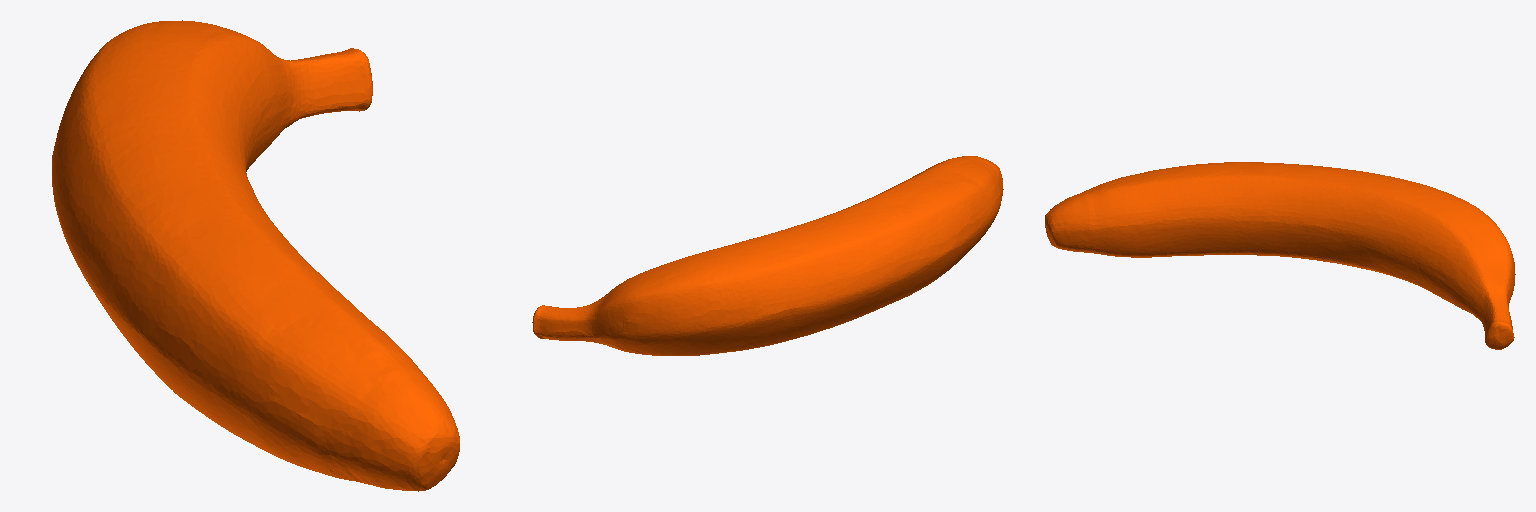
URDF robot description (011_banana):
<?xml version="1.0" ?>
<robot name="011_banana">
   <material name="obj_color">
      <color rgba="1.0 0.423529411765 0.0392156862745 1.0"/>
   </material>
   <link name="top">
      <inertial>
         <origin rpy="7.987760800959645e-05 0.0008051021758995559 0.000837310972590375" xyz="-0.005622772660592714 -0.001975180305349005 0.0005951502797636227"/>
         <mass value="0.3362037603209768"/>
         <inertia ixx="0.000734440997687272" ixy="-0.0002170082513032077" ixz="5.197729412746954e-06" iyy="0.0001518317753927304" iyz="-4.352009116025235e-06" izz="0.0008360179834195249"/>
      </inertial>
      <visual>
         <origin rpy="0 0 0" xyz="0 0 0"/>
         <geometry>
            <mesh filename="top_watertight_tiny.stl" scale="1 1 1"/>
         </geometry>
         <material name="obj_color"/>
      </visual>
      <collision>
         <origin rpy="0 0 0" xyz="0 0 0"/>
         <geometry>
            <mesh filename="top_watertight_tiny.obj" scale="1 1 1"/>
         </geometry>
      </collision>
   </link>
   <link name="bottom">
      <inertial>
         <origin rpy="1.633333333199431e-08 1.633333333199431e-08 1.633333333362855e-08" xyz="0.3464080000000008 0.3464080000000008 0.3464080000000008"/>
         <mass value="0.0009800000000000017"/>
         <inertia ixx="1.633333333253906e-08" ixy="5.447480642029219e-19" ixz="5.447480642029219e-19" iyy="1.633333333253906e-08" iyz="5.447480642029219e-19" izz="1.633333333253906e-08"/>
      </inertial>
      <visual>
         <origin rpy="0 0 0" xyz="0 0 0"/>
         <geometry>
            <mesh filename="bottom_watertight_tiny.stl" scale="1 1 1"/>
         </geometry>
         <material name="obj_color"/>
      </visual>
   </link>
   <link name="world"/>
   <joint name="world_to_base" type="fixed">
      <origin xyz="0 0 0"/>
      <axis xyz="0 0 0"/>
      <parent link="world"/>
      <child link="bottom"/>
   </joint>
   <joint name="rotation" type="revolute">
      <origin xyz="0 0 0"/>
      <axis xyz="0 0 -1"/>
      <parent link="bottom"/>
      <child link="top"/>
      <dynamics damping="1.0" friction="1.0"/>
      <limit effort="0.1" velocity="0.1" lower="0" upper="0.001"/>
   </joint>
</robot>

--- Render facts (derived) ---
Views: 3 orthographic renders of the robot side by side, from view 1: azimuth 30°, elevation 25°; view 2: azimuth 150°, elevation 25°; view 3: azimuth 270°, elevation 25°.
Robot: 011_banana — 3 links, 2 joints (1 revolute, 1 fixed); root link world; default pose: all joints at 0.
Links seen in each view (by area): view 1: top; view 2: top; view 3: top.
Boxes of the visible links, x1,y1,x2,y2 form: top: (52, 20, 459, 491); top: (532, 156, 1003, 355); top: (1045, 162, 1515, 349).
Bounding box of the posed robot: 0.1089 × 0.1784 × 0.0367 m (x, y, z).
1 mesh visuals loaded from 2 distinct referenced files (1 binary STL); not drawn: 1 (reference not matched to a file when rendering).
